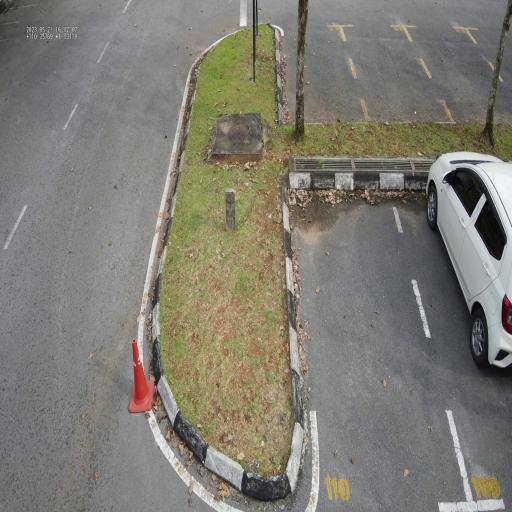Empty: (281, 179, 478, 512)
